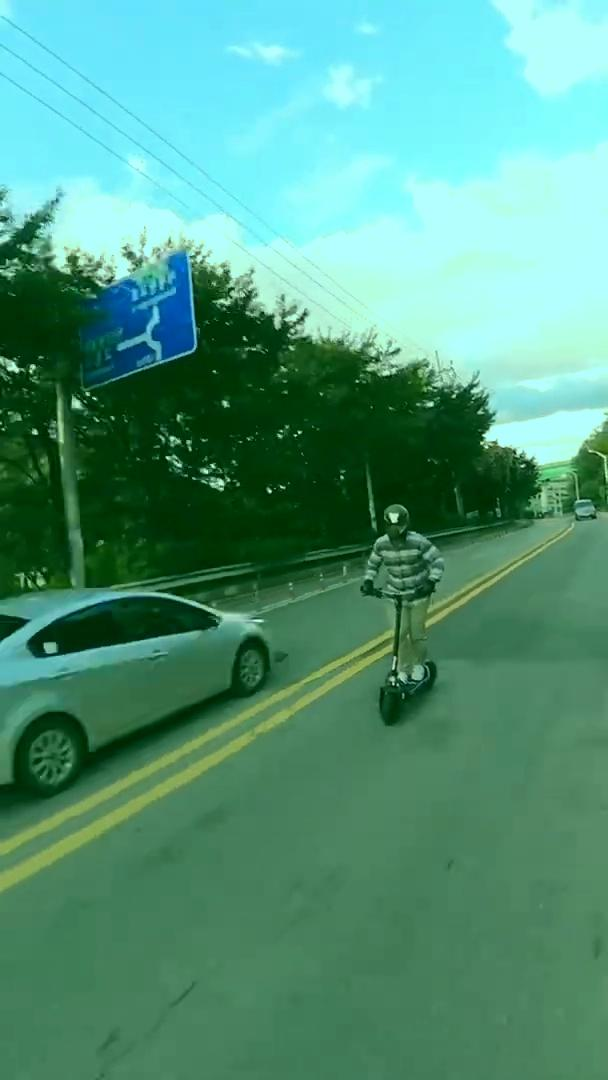helmet: (355, 499, 447, 730)
